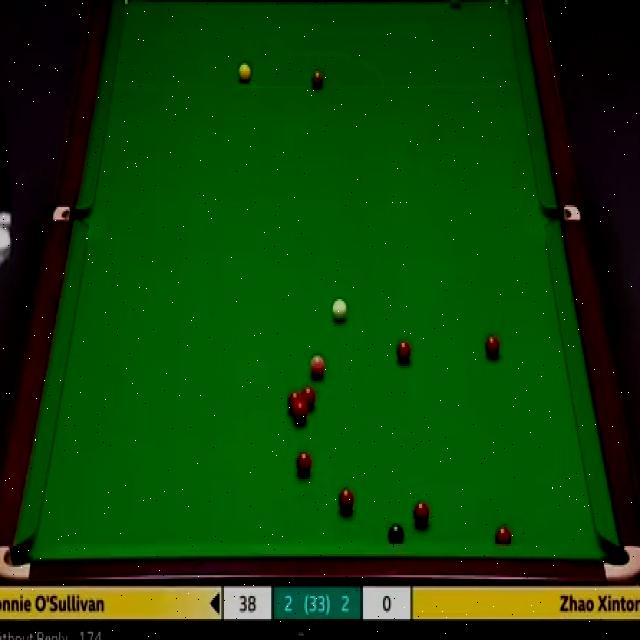black-ball: (388, 522, 405, 544)
brown-ball: (311, 66, 324, 88)
green-ball: (447, 0, 462, 6)
pink-ball: (308, 351, 328, 377)
red-ball: (338, 486, 356, 516), (412, 502, 431, 530), (296, 447, 314, 476), (396, 337, 412, 365), (287, 391, 302, 417), (484, 334, 499, 360), (302, 386, 316, 412), (493, 524, 513, 542), (293, 404, 309, 425)
white-ball: (330, 297, 348, 322)
yellow-ball: (238, 65, 250, 82)
